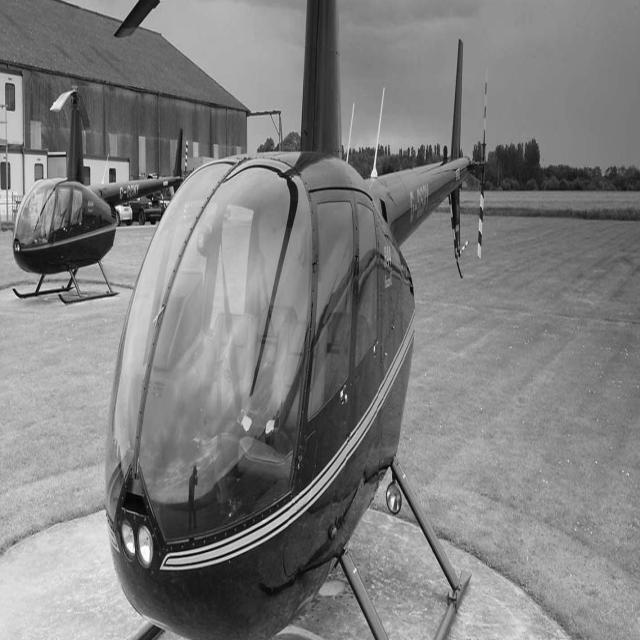helicopter: (110, 1, 491, 640), (14, 89, 192, 306)
